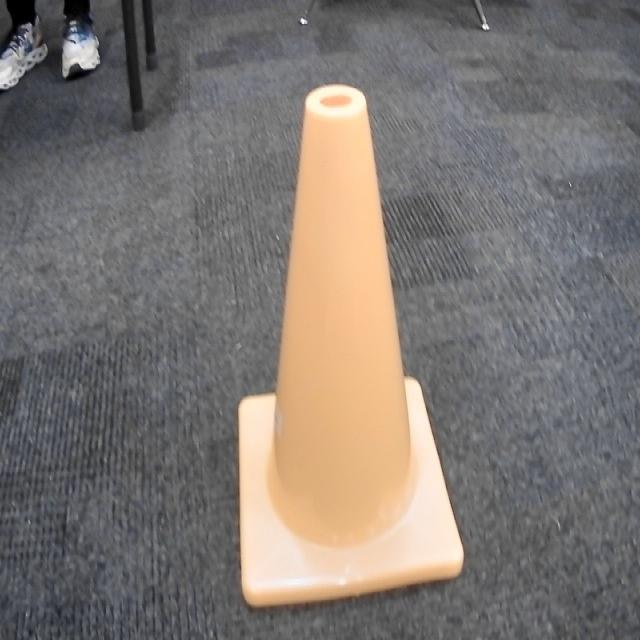cone: (233, 79, 469, 614)
